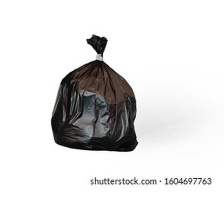plastic_bag: (44, 30, 144, 154)
